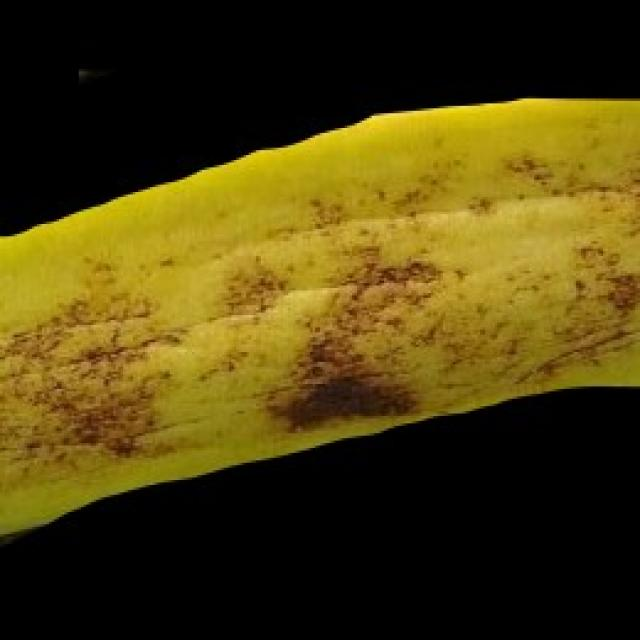mite: (502, 148, 554, 187)
sunburn: (0, 258, 182, 468)
